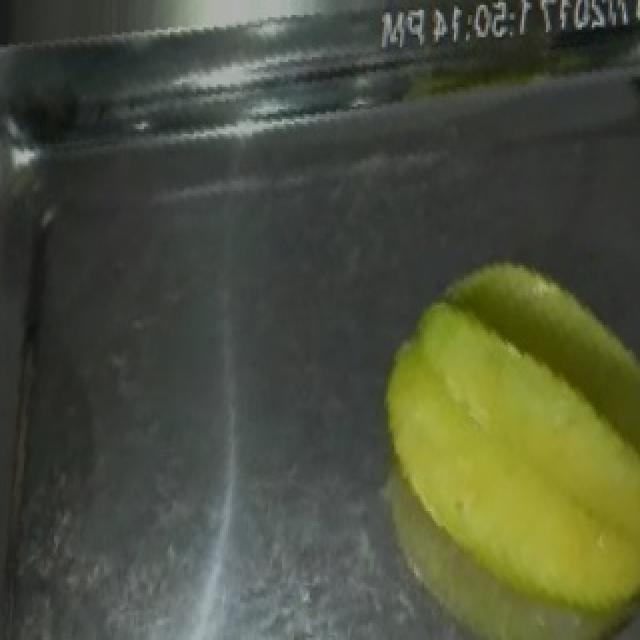fruit: (352, 248, 640, 640)
